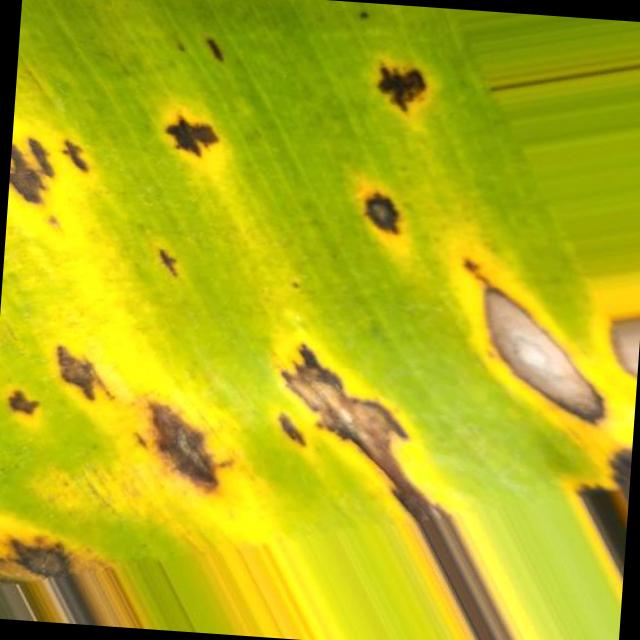Banana_Yellow_Sigatoka: (0, 290, 566, 640), (428, 202, 640, 447), (306, 32, 484, 280), (117, 13, 277, 210), (7, 100, 128, 228)
